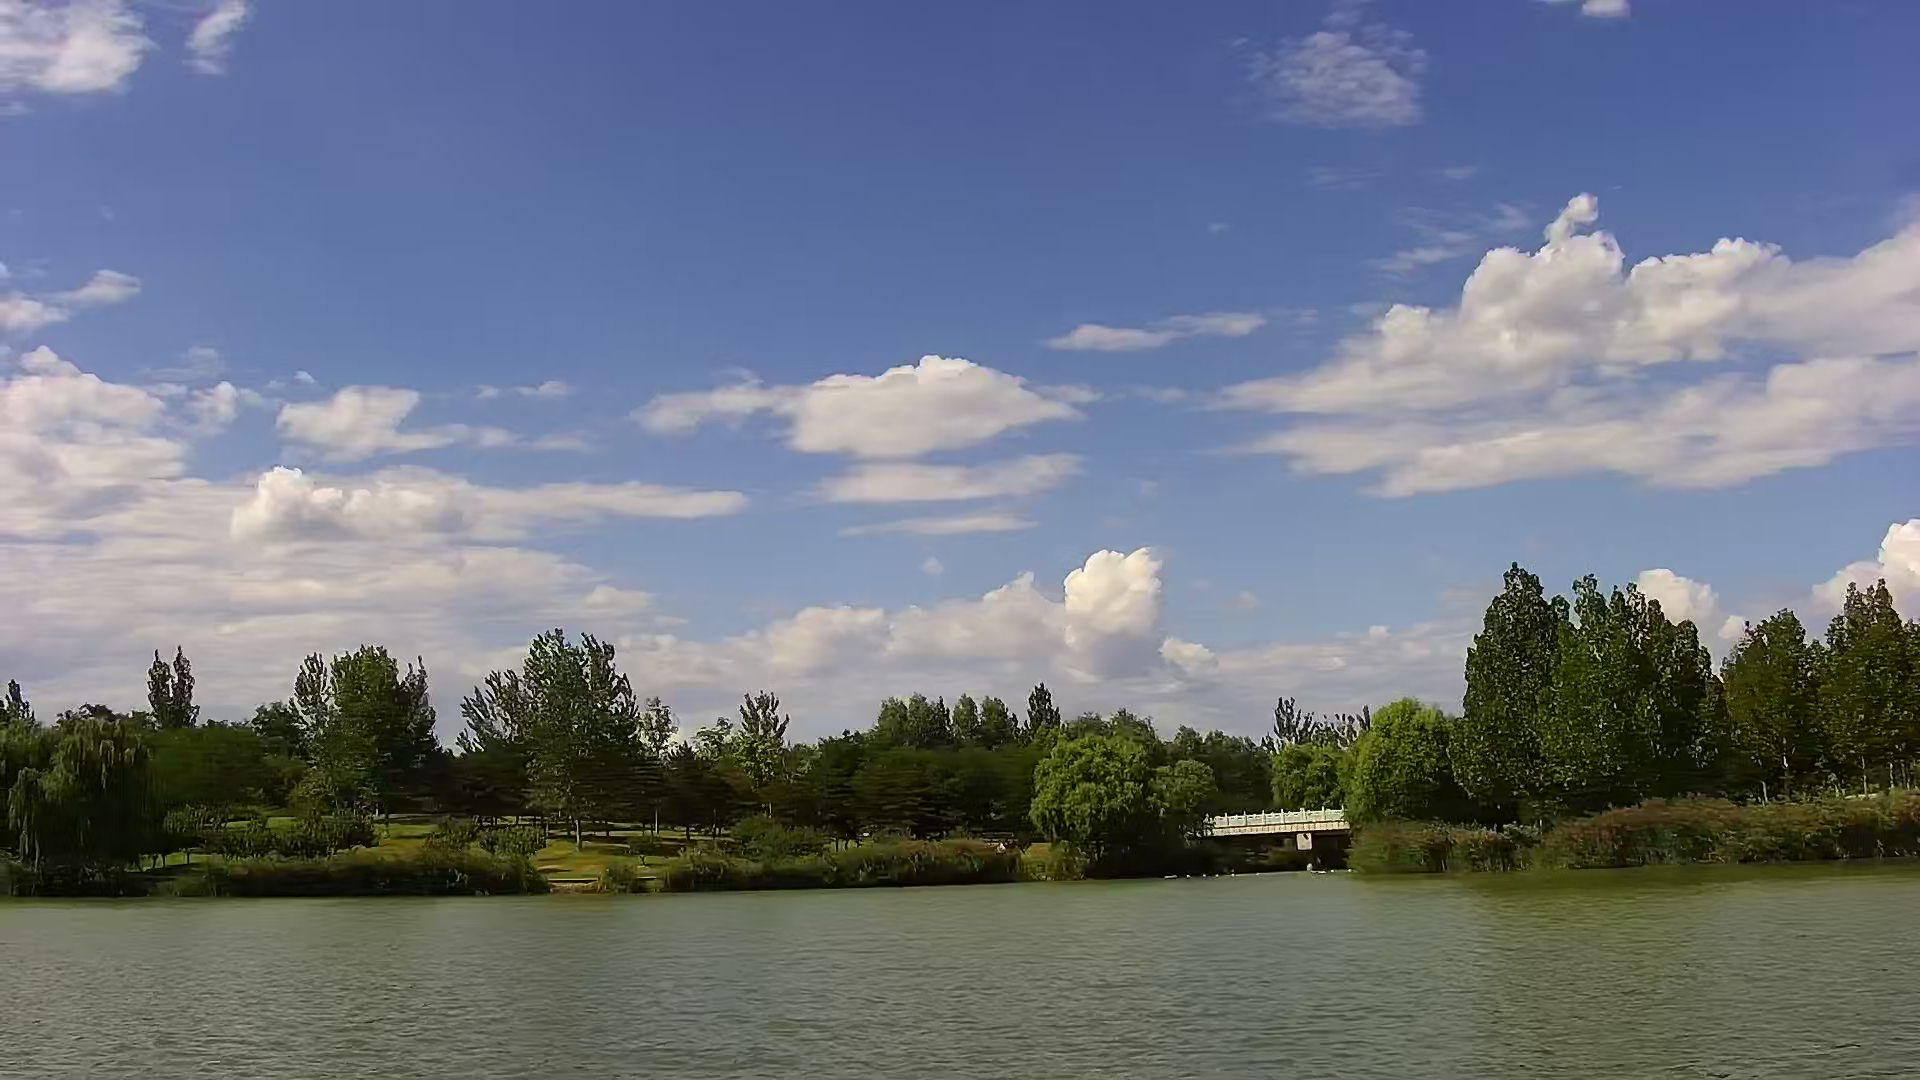bridge: (1196, 806, 1352, 870)
